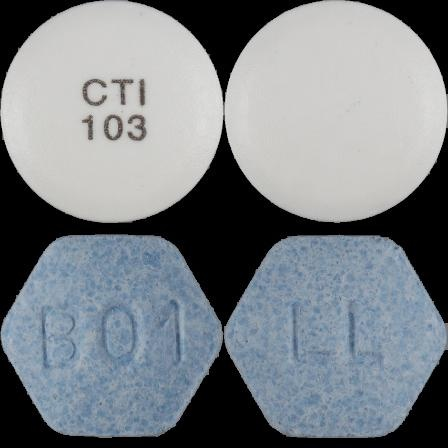68788-9806: (0, 0, 224, 224)
